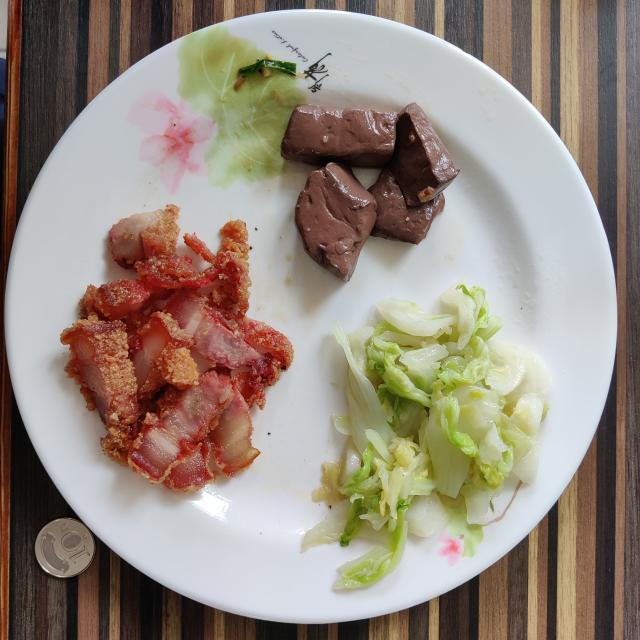cabbage: (302, 285, 551, 589)
coin: (35, 518, 95, 578)
pig blood curd: (281, 102, 459, 280)
red grilled pork: (61, 205, 294, 491)
